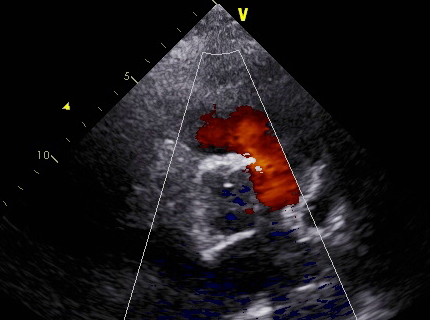PR: (239, 107, 304, 201)
